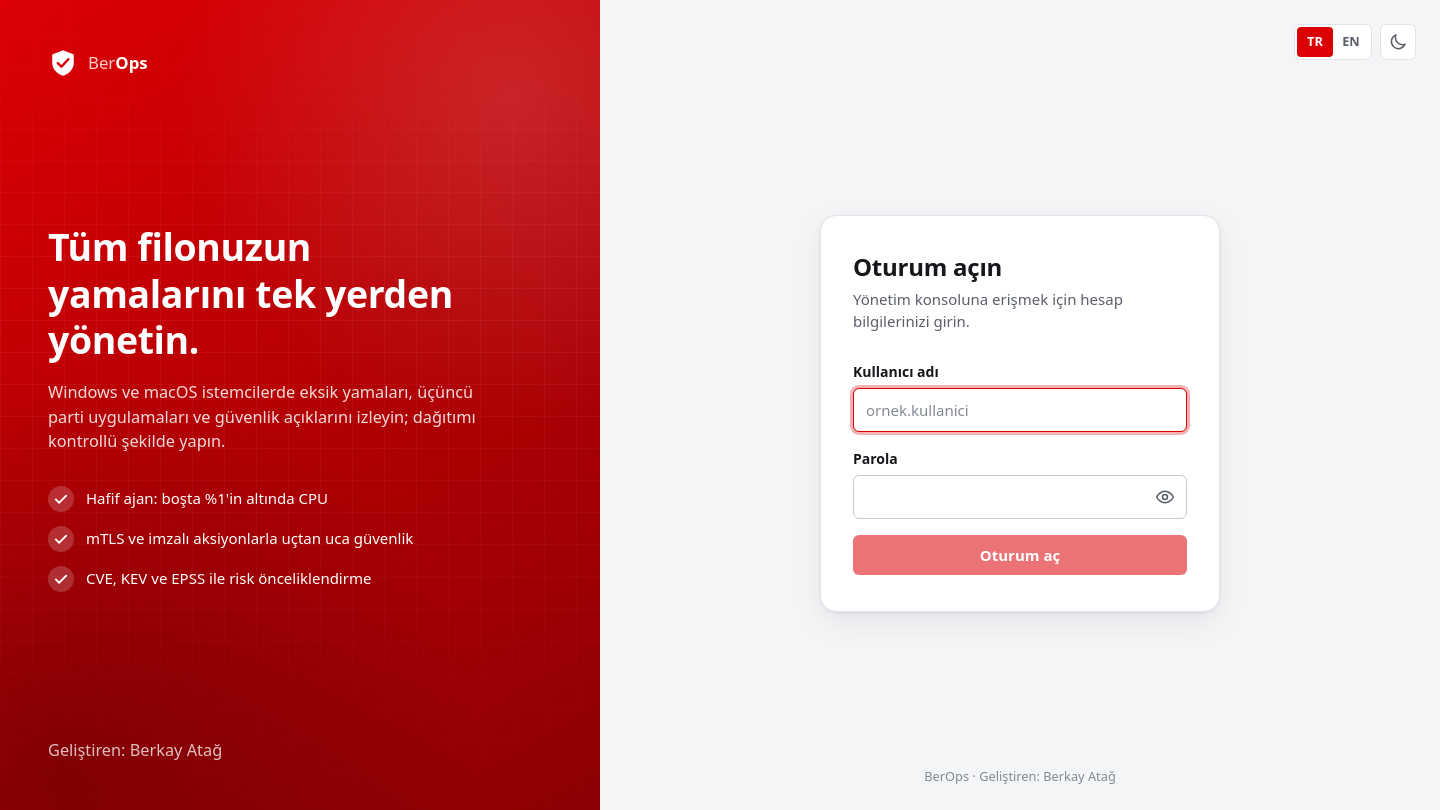
giriş ekranı › dil İngilizceye çevrilebilir
Step 1. Click the button "EN" → (1351, 42), box [1333,27,1369,57]
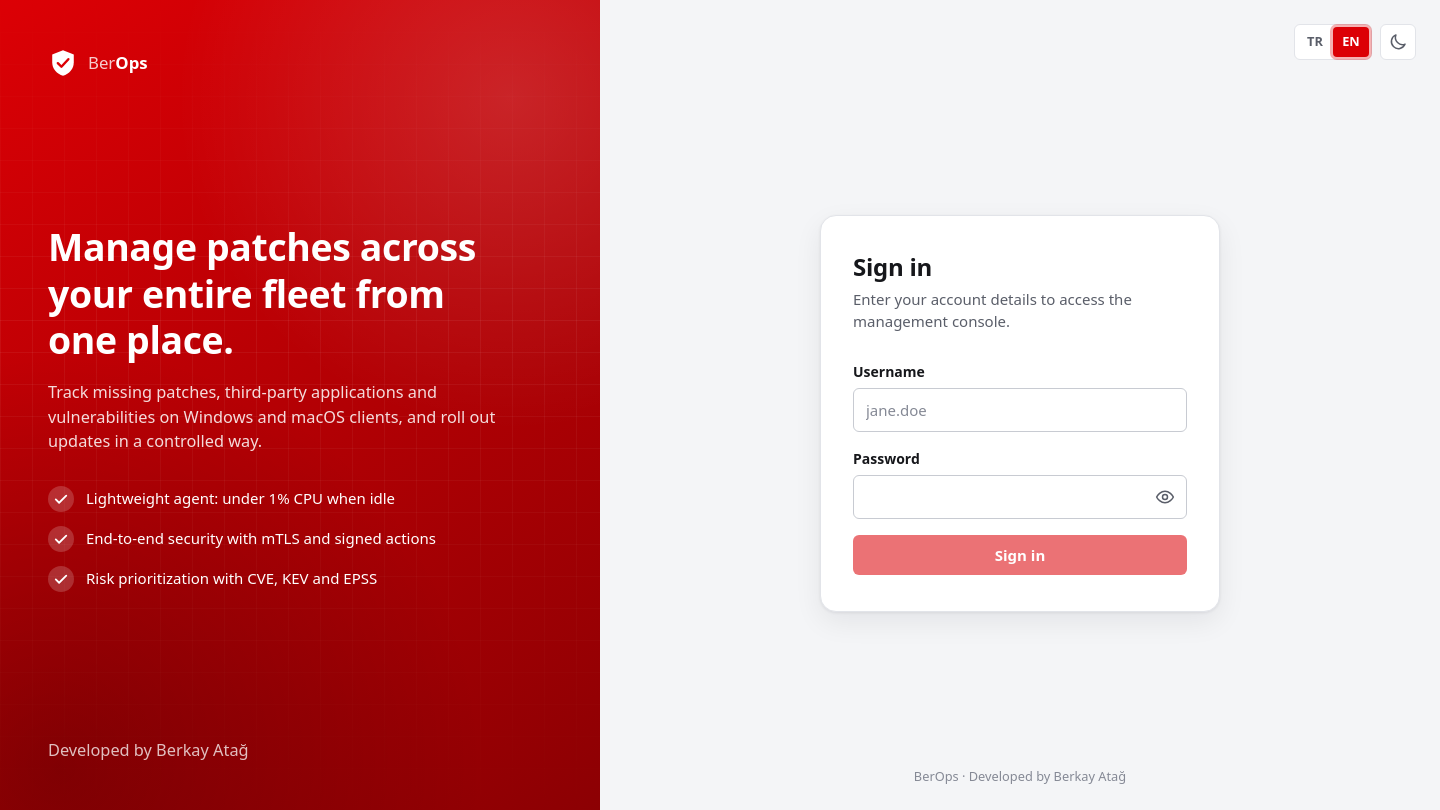
Expected: the heading "Sign in" is shown, [853,250,932,283]
